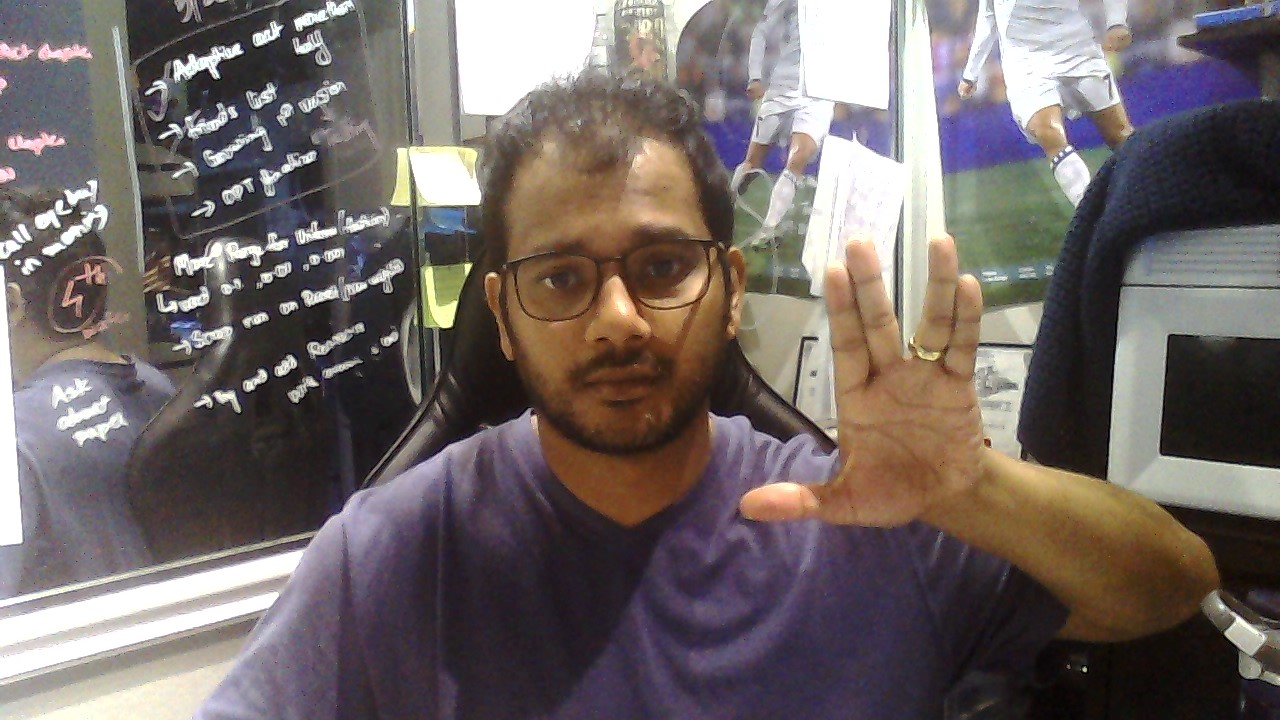LiveLong: (740, 231, 983, 529)
